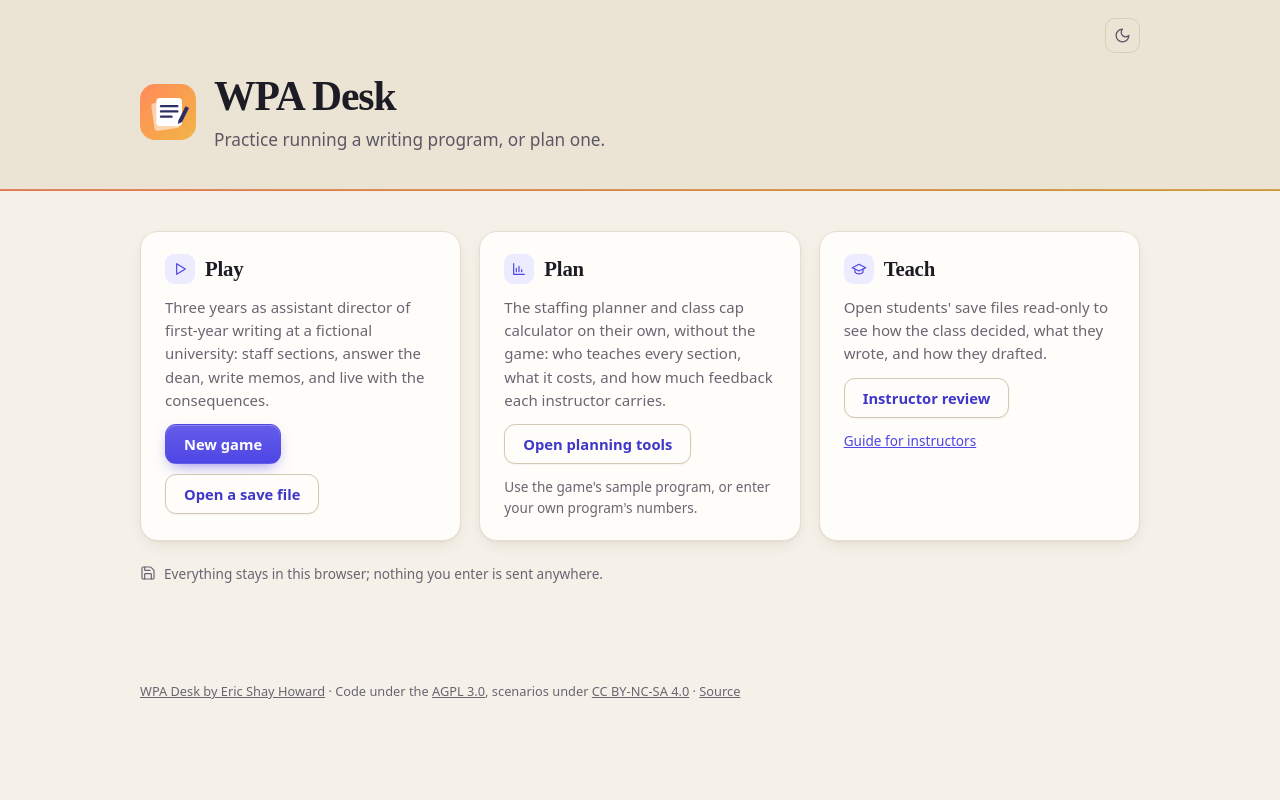
Scenario: the campus map › selects a building from the keyboard
Click the button "New game". click: click(223, 444)
box: x1=165 y1=424 x2=281 y2=464
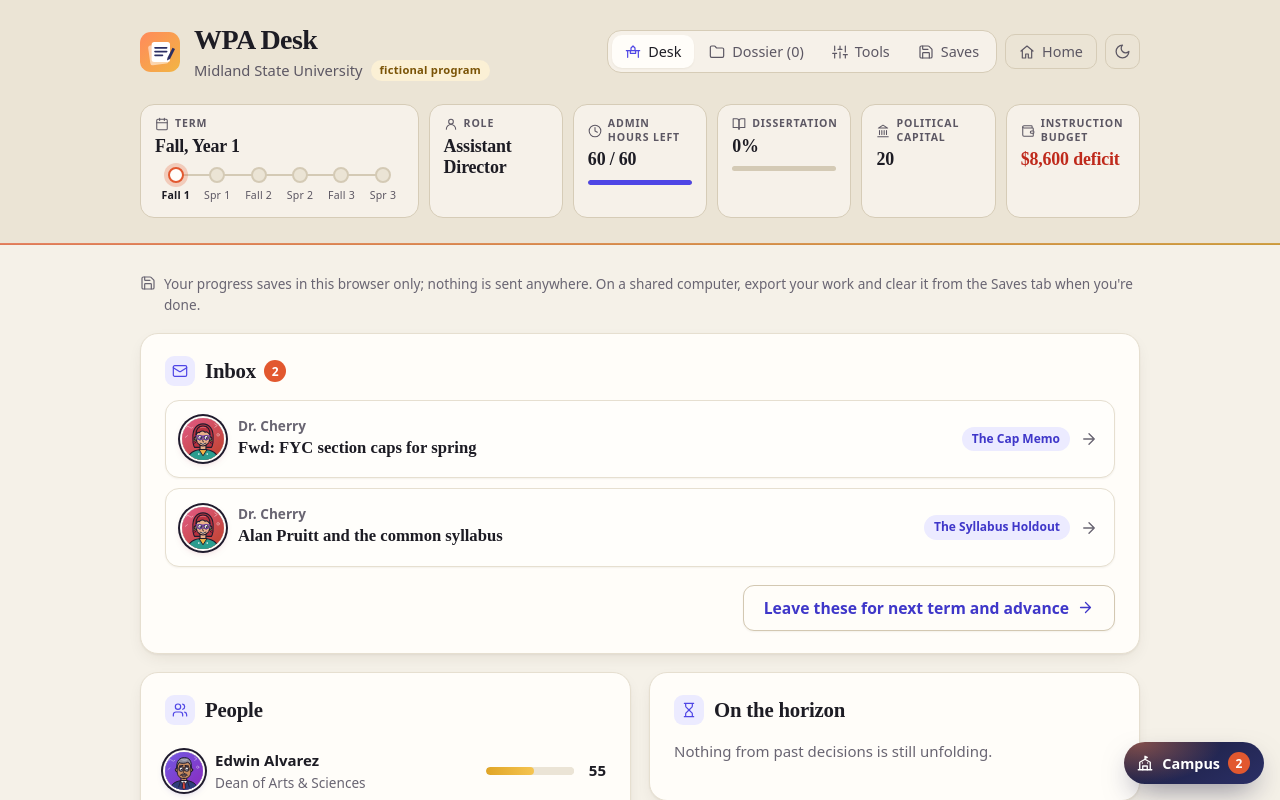
Click the button with aria-label "Show the campus". click: click(1194, 763)
box: x1=1124 y1=742 x2=1264 y2=784
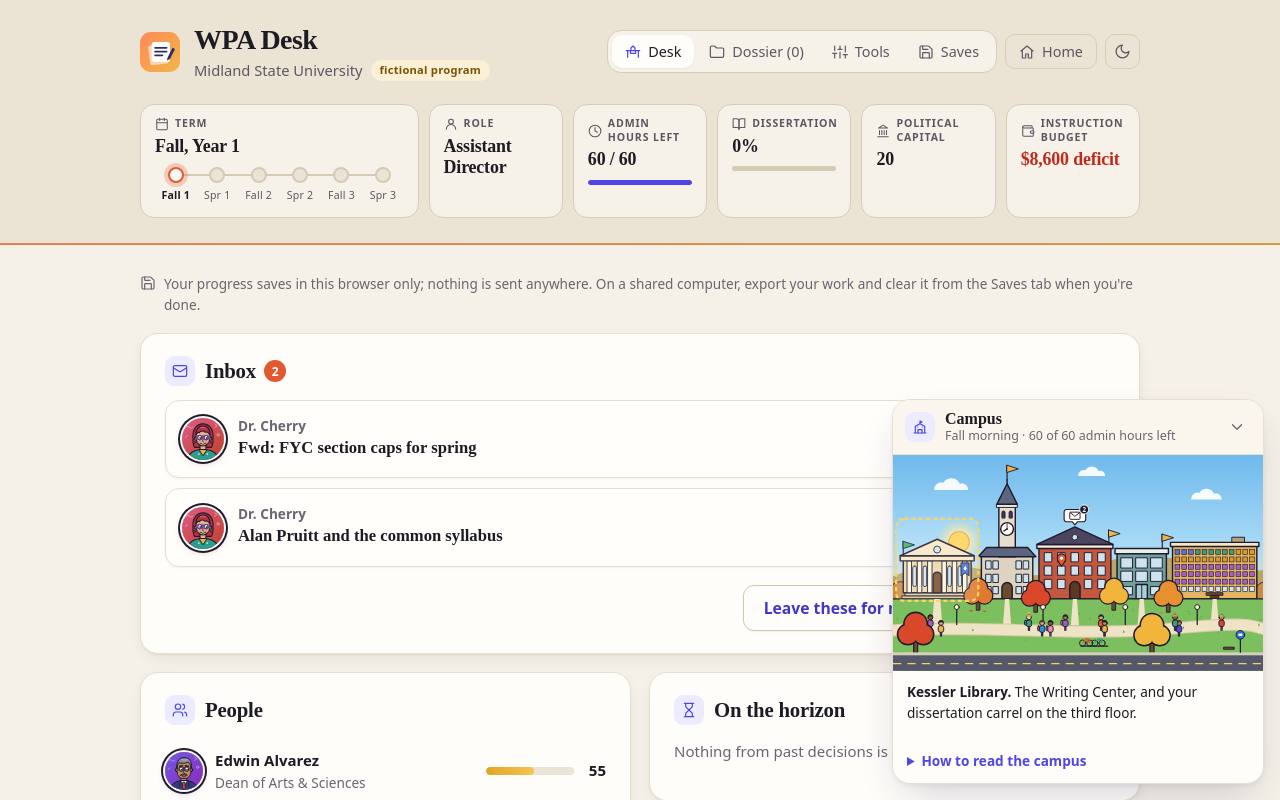
Press Enter
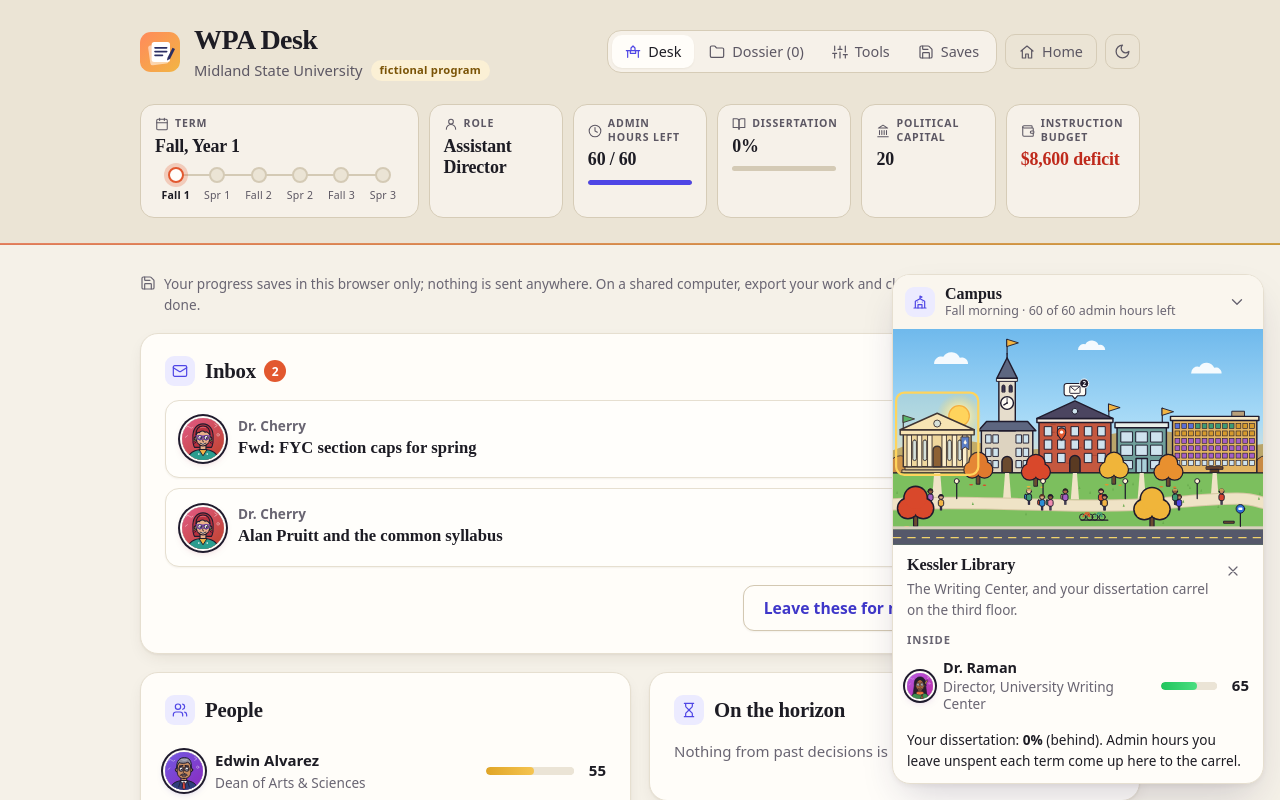
Expected: the element "Kessler Library" shows "Your dissertation: 0%", x1=907 y1=555 x2=1249 y2=771
